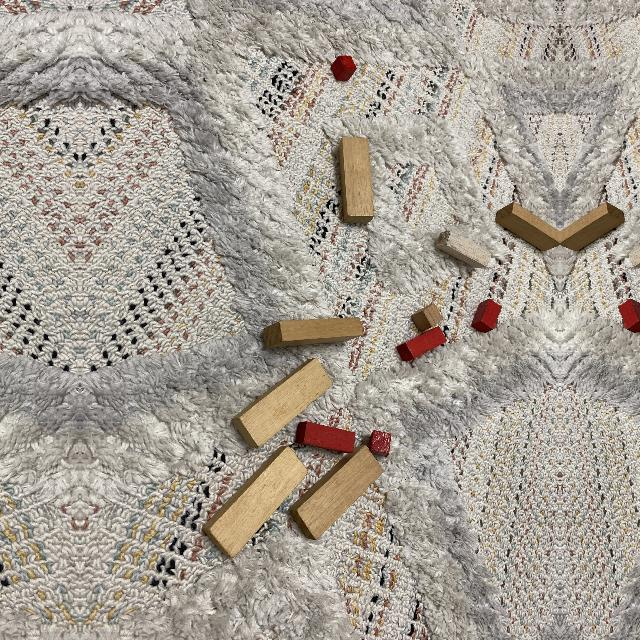block: (435, 230, 491, 268)
cube: (411, 303, 443, 332)
jenga: (202, 446, 309, 559), (288, 445, 384, 540), (232, 357, 333, 447), (495, 202, 560, 252), (560, 202, 625, 252), (339, 136, 374, 223), (263, 317, 363, 347)
red block: (295, 421, 356, 453), (397, 326, 447, 361), (472, 298, 502, 333), (618, 298, 640, 333)
red cube: (331, 56, 357, 81), (369, 430, 391, 457)
